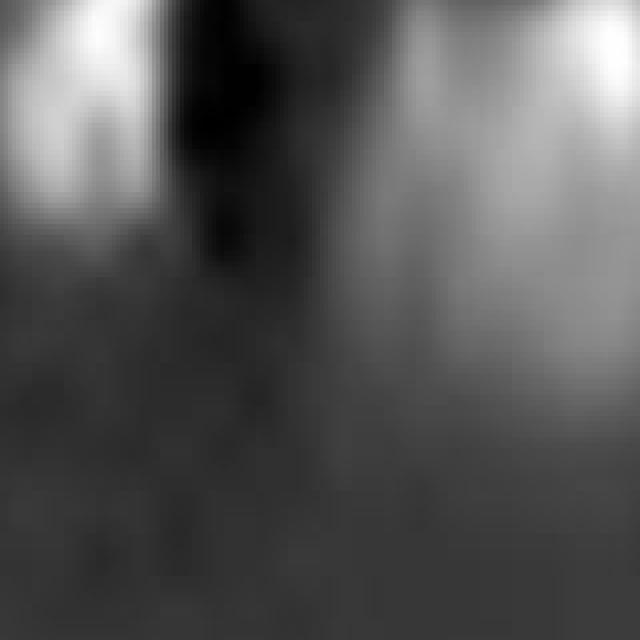person: (489, 1, 640, 481), (349, 1, 509, 358), (1, 1, 193, 220)
